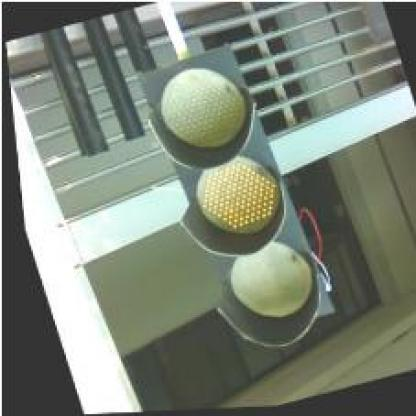yellow: (125, 40, 334, 366)
